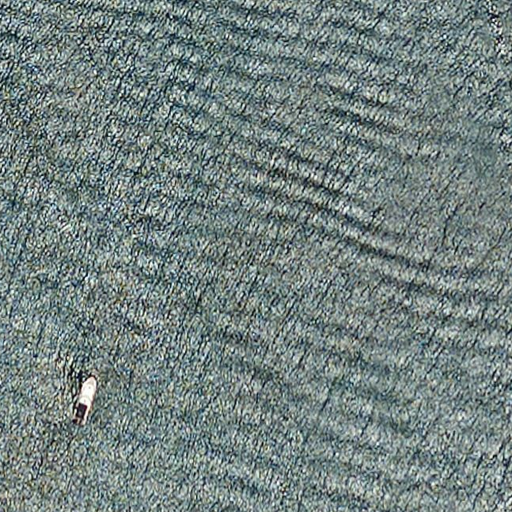ship: (69, 372, 101, 430)
